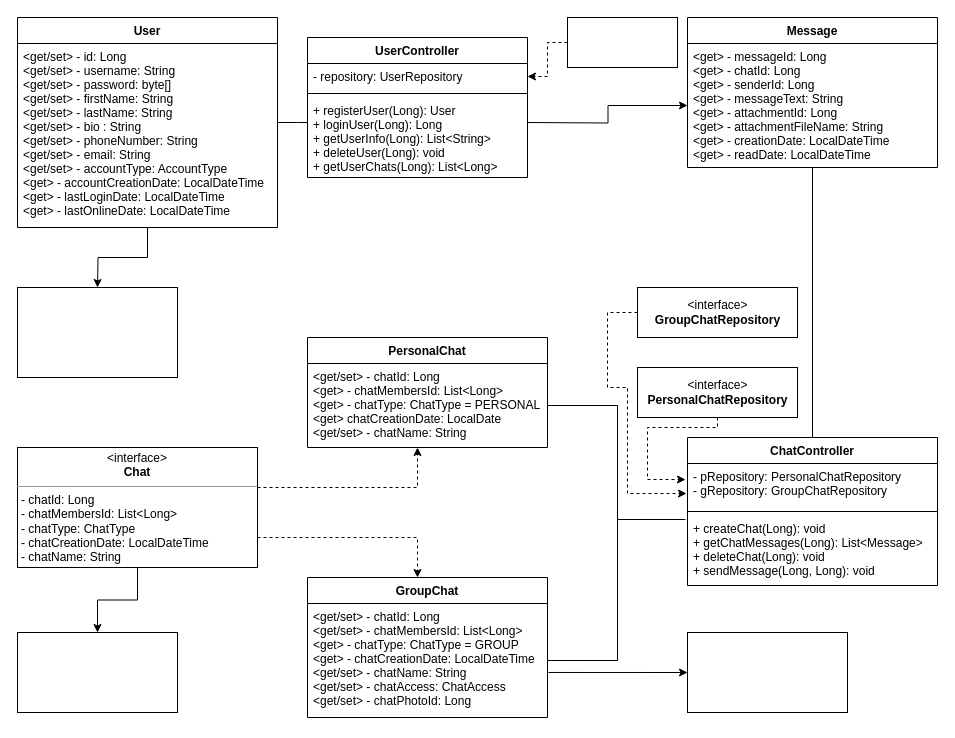
The diagram is 955 pixels wide and 738 high, and some of its shapes have lost their labels. Here are the shapes that lost their labels. From the top down, the centre of each, then its label:
At pixel 622 42: "<interface> UserRepository".
At pixel 97 332: "< enum > AccountType USER ADMIN BLOCKED".
At pixel 97 672: "< enum > ChatType PERSONAL GROUP".
At pixel 767 672: "< enum > ChatAccess PUBLIC PRIVATE".
